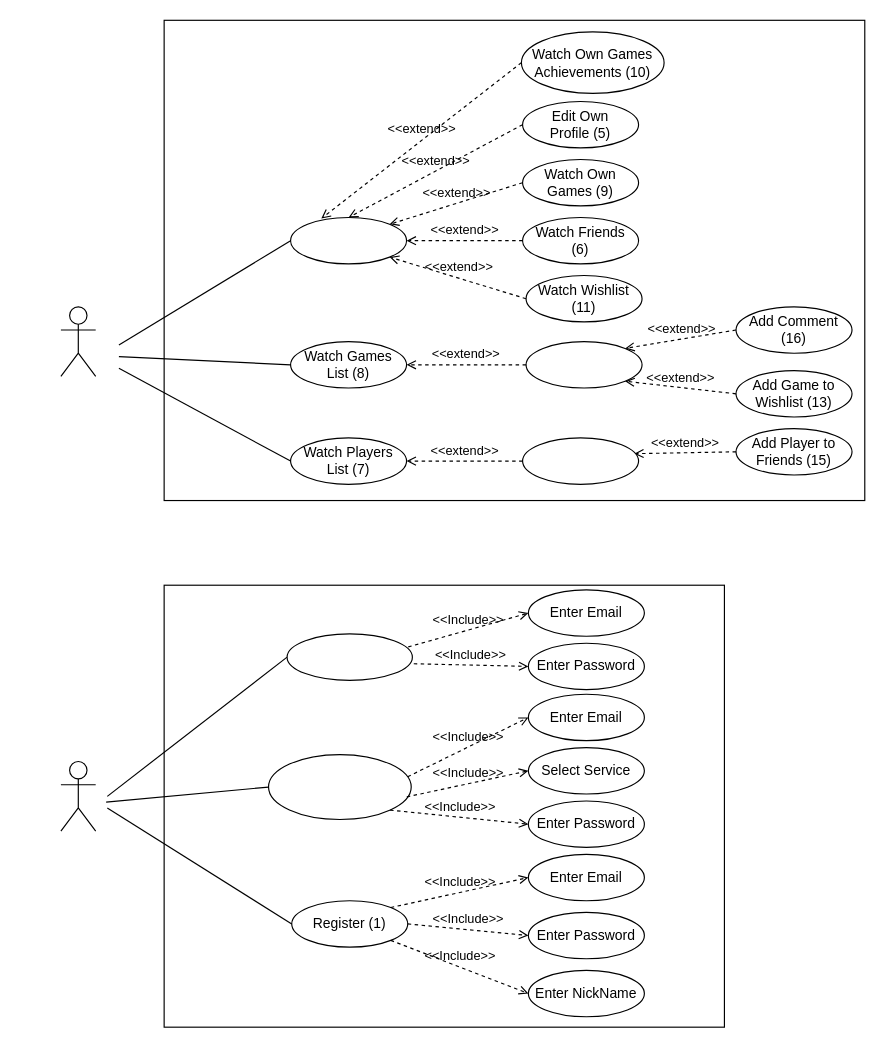
The diagram is 885 pixels wide and 1047 high, and some of its shapes have lost their labels. The shapes that lost their labels are listed below. From the top down, each one's centre as x and y in pixels, then its label:
At [348,240]: "Watch Own Profile (4)".
At [78,341]: "Authorized User".
At [583,364]: "Watch Game info (12)".
At [580,460]: "Watch Player Info (14)".
At [349,656]: "Authorize using Email (2)".
At [78,795]: "Unauthorized User".
At [339,786]: "Authorize using another Services (3)".
